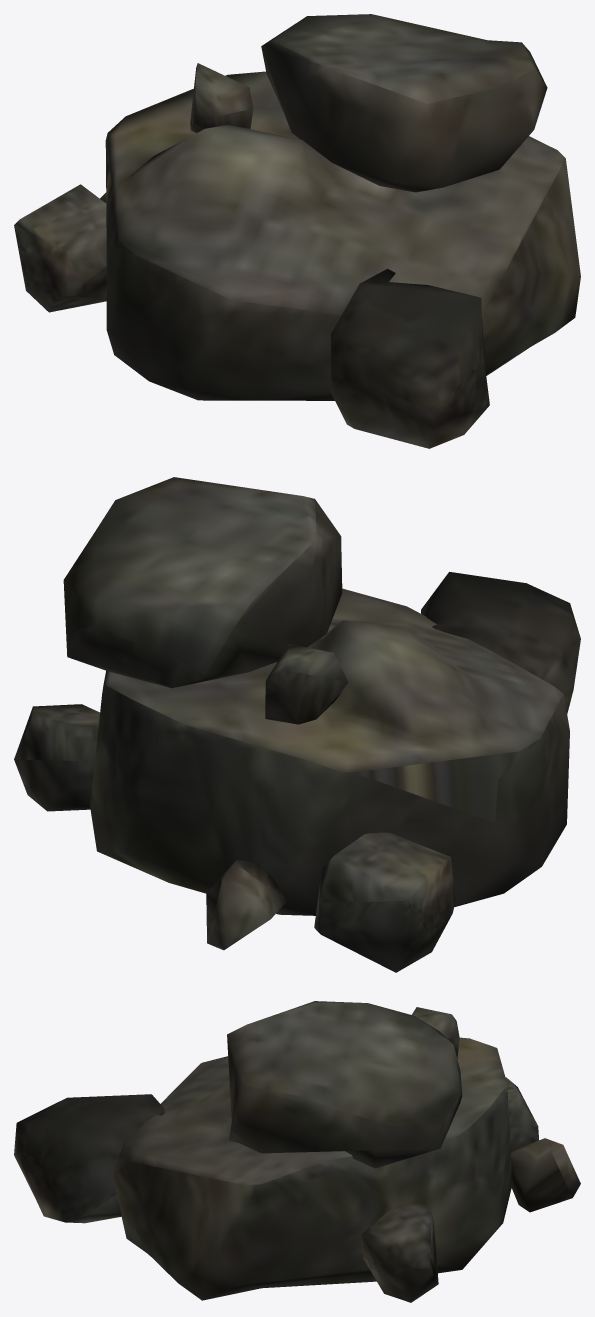
3 views of the same model, one above another, from view 1: azimuth 30°, elevation 25°; view 2: azimuth 150°, elevation 25°; view 3: azimuth 270°, elevation 25° (orthographic). The views are drawn at different scales.
Parts seen in each view (by area): view 1: smallrockcluster_1; view 2: smallrockcluster_1; view 3: smallrockcluster_1.
Boxes of the visible parts, bbox=[...] form: smallrockcluster_1: bbox=[14, 14, 580, 448]; smallrockcluster_1: bbox=[14, 477, 580, 972]; smallrockcluster_1: bbox=[14, 1001, 580, 1302].
Bounding box in the file's own units: 4.17 × 2.52 × 5.59.
1 material, 1 textured.
